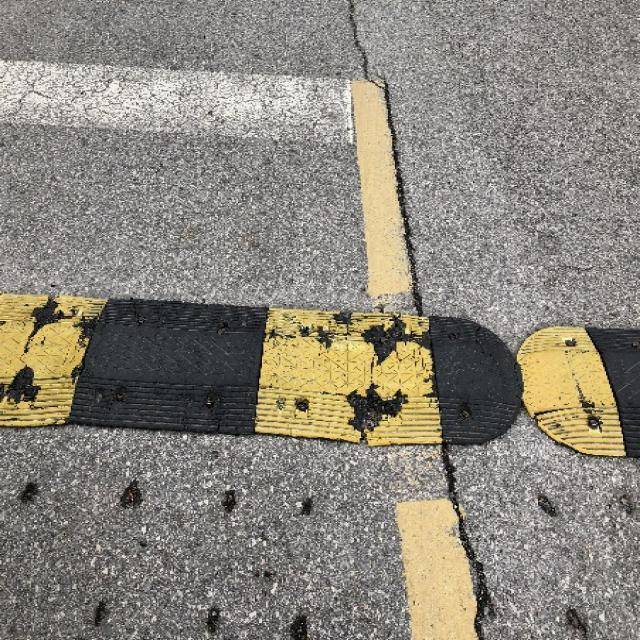Speed Bump: (0, 290, 633, 450)
